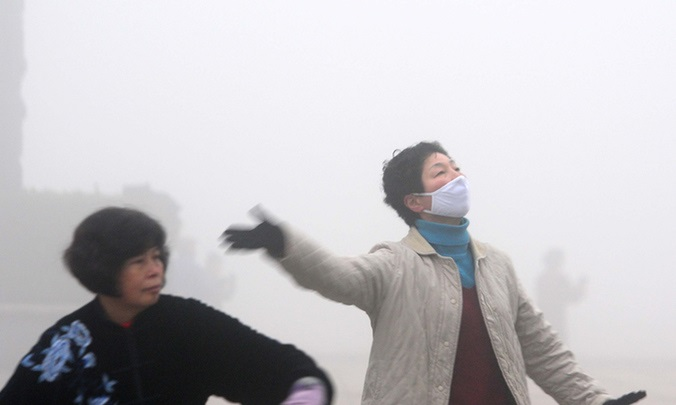face_mask: (119, 242, 165, 304), (431, 151, 472, 217)
